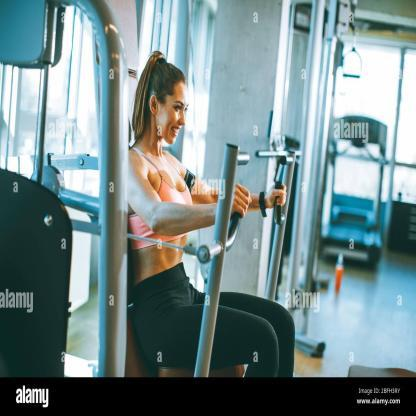Chest Press machine: (0, 0, 300, 377)
